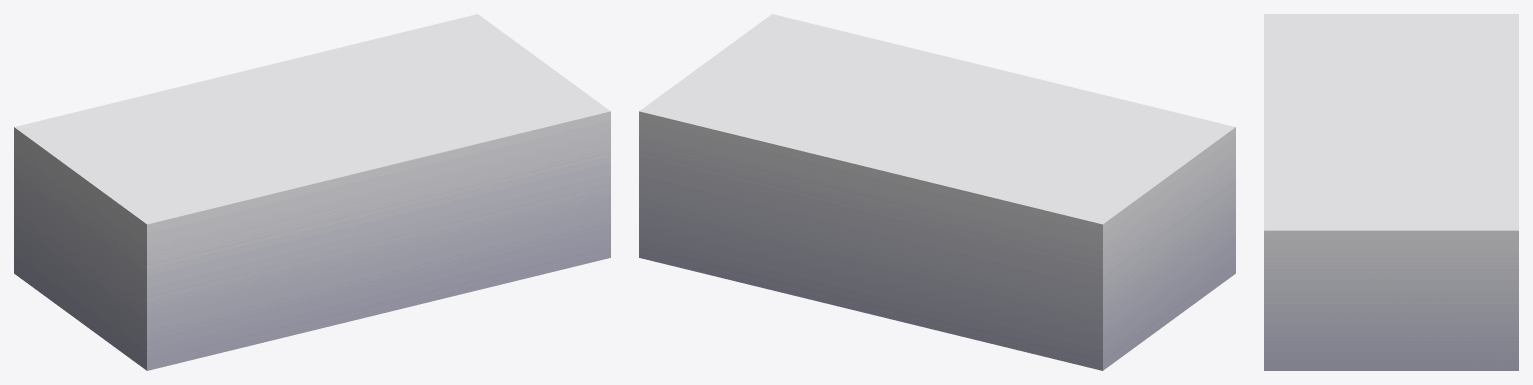
Rendered from brick-kit--none-lq-brick-2x4.glb.
The picture shows the model from 3 angles, left to right: view 1: azimuth 30°, elevation 25°; view 2: azimuth 150°, elevation 25°; view 3: azimuth 270°, elevation 25°; orthographic projection. The views are drawn at different scales.
Visible parts, largest first — view 1: none-lq-brick-2x4; view 2: none-lq-brick-2x4; view 3: none-lq-brick-2x4.
Boxes of the visible parts, x1,y1,x2,y2 form: none-lq-brick-2x4: (14, 14, 610, 370); none-lq-brick-2x4: (639, 14, 1235, 370); none-lq-brick-2x4: (1264, 14, 1518, 370).
Bounding box in the file's own units: 0.318 × 0.096 × 0.158.
Materials: 1 (1 with a texture image).
